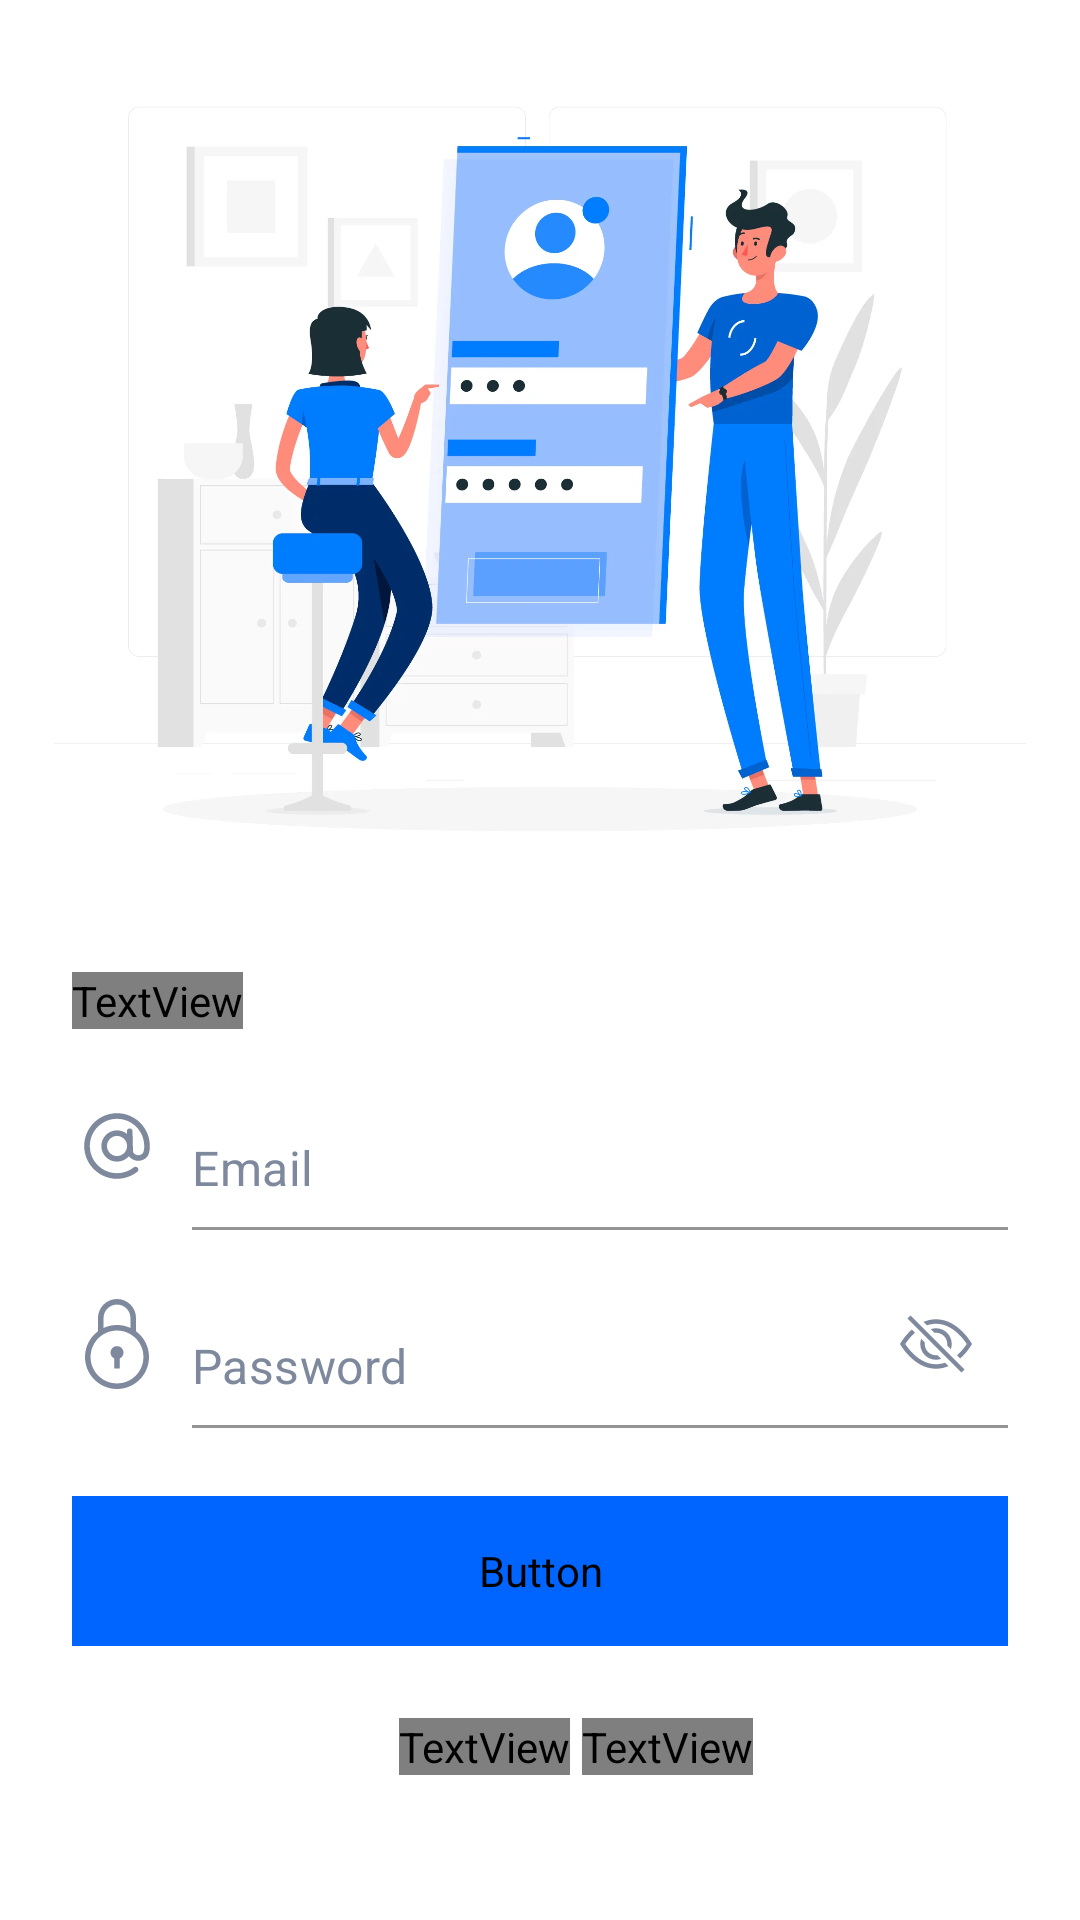

Where to tap for icons on this 1080w x 1920h app screen, as [x,y]:
lock: [117,1344]
